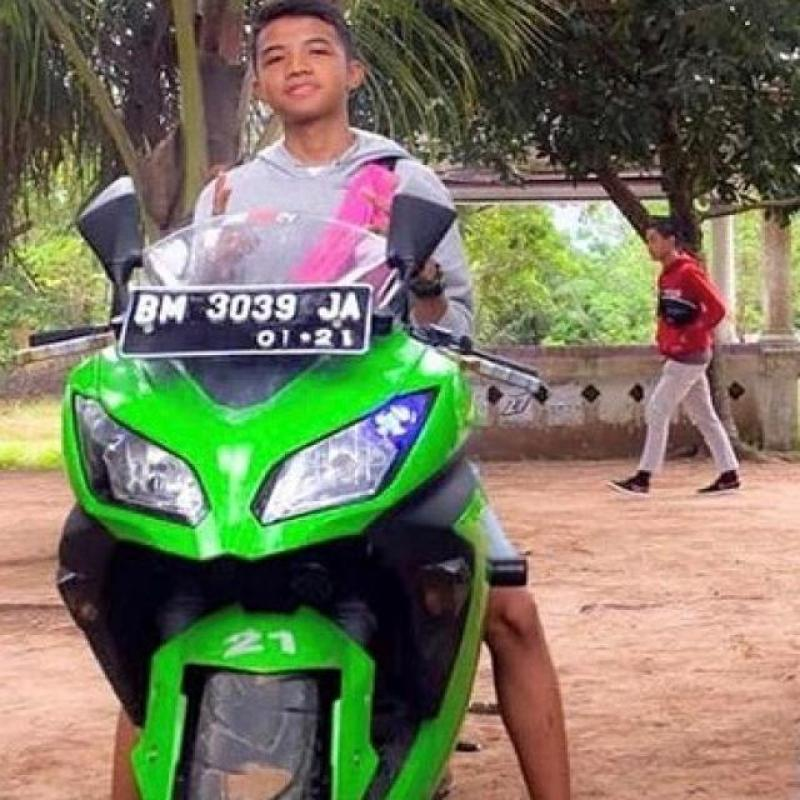nohelmet: (240, 0, 378, 148)
